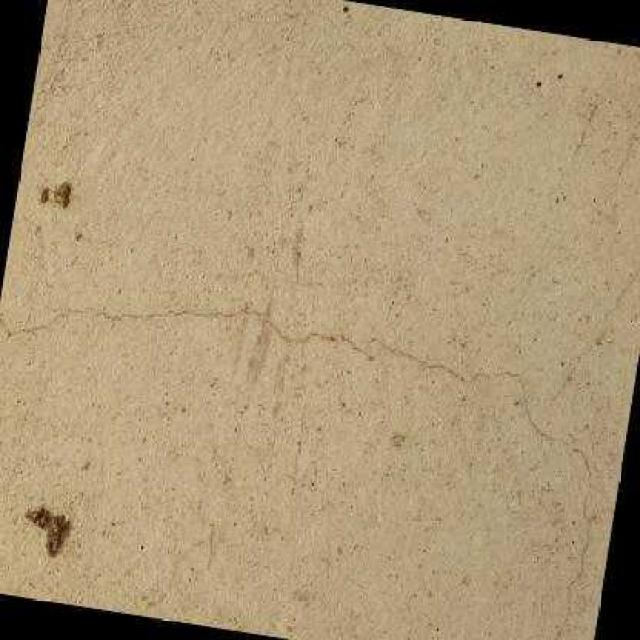D00: (0, 301, 614, 640)
